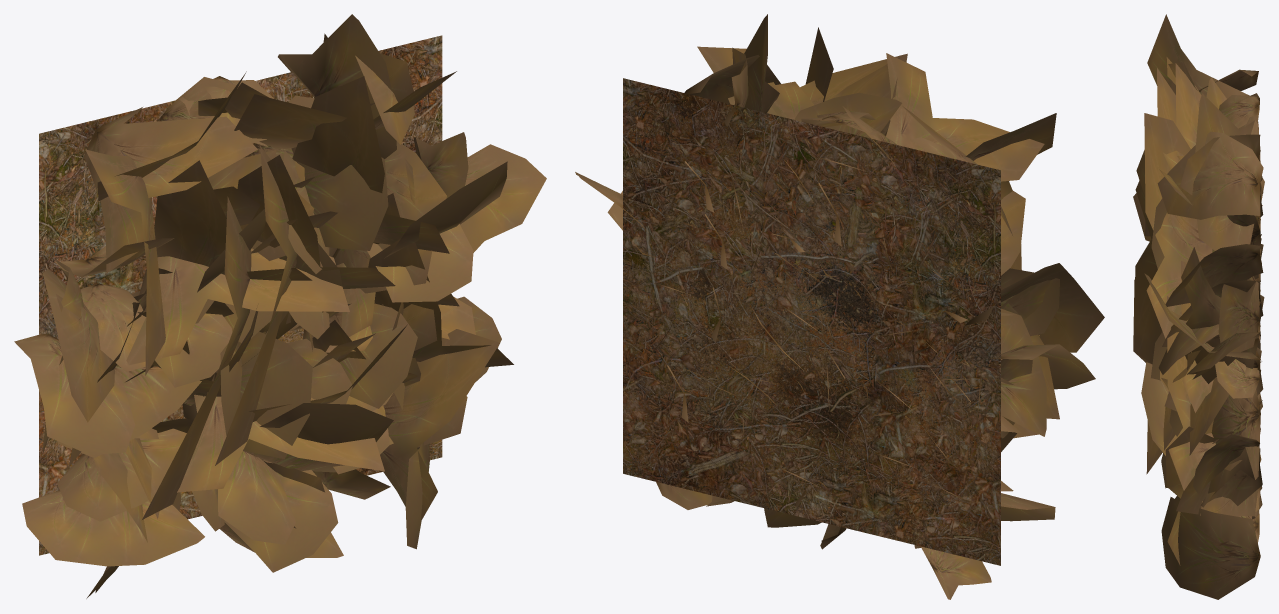
File: GrassTile.obj
The picture shows the model from 3 angles, left to right: view 1: azimuth 30°, elevation 25°; view 2: azimuth 150°, elevation 25°; view 3: azimuth 270°, elevation 25°; orthographic projection. The views are drawn at different scales.
Parts seen in each view (by area): view 1: grasspatch3_grass1_0, grasspatch1_grass1_0, ground.111, ground.110; view 2: ground.111, ground.110, grasspatch3_grass1_0, grasspatch1_grass1_0; view 3: grasspatch3_grass1_0, grasspatch1_grass1_0.
Boxes of the visible parts, x1,y1,x2,y2 form: grasspatch3_grass1_0: (14,52,546,598); grasspatch1_grass1_0: (22,14,513,566); ground.111: (39,134,441,555); ground.110: (39,35,442,456); ground.111: (623,171,1000,565); ground.110: (623,78,1000,473); grasspatch3_grass1_0: (575,27,1095,599); grasspatch1_grass1_0: (607,14,1104,527); grasspatch3_grass1_0: (1144,14,1264,599); grasspatch1_grass1_0: (1133,68,1264,519).
Bounding box in the file's own units: 1.31 × 1.3 × 0.3233.
Materials: 2 (2 with a texture image).
